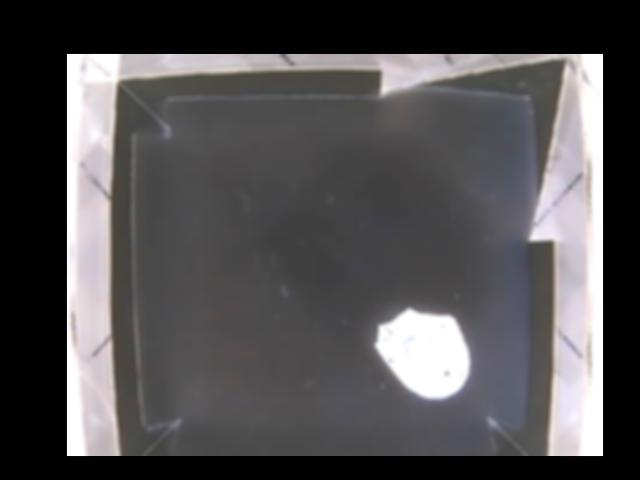Shell: (374, 305, 469, 397)
